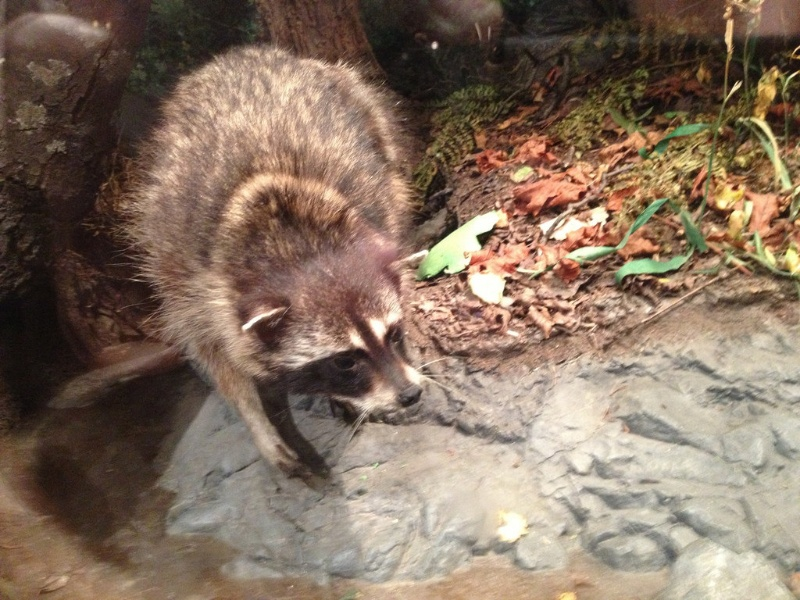raccoon: (127, 44, 429, 497)
